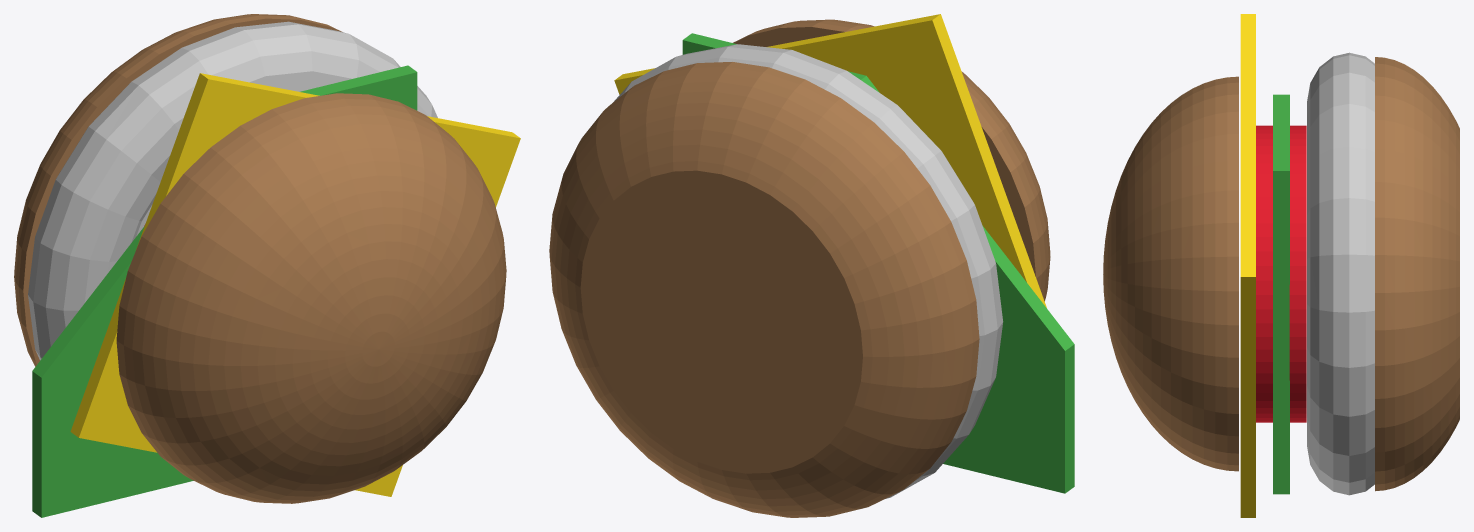
File: tinker 1.obj
3 views of the same model, side by side, from view 1: azimuth 30°, elevation 25°; view 2: azimuth 150°, elevation 25°; view 3: azimuth 270°, elevation 25° (orthographic). The views are drawn at different scales.
Visible parts, largest first — view 1: group_0_11107152, group_0_6306067, group_0_4634441, group_0_16768282; view 2: group_0_11107152, group_0_4634441, group_0_16768282, group_0_6306067; view 3: group_0_11107152, group_0_6306067, group_0_15277357, group_0_16768282, group_0_4634441.
Part boxes in pixels (bbox=[...]): group_0_11107152: bbox=[14, 14, 506, 503]; group_0_6306067: bbox=[28, 21, 437, 360]; group_0_4634441: bbox=[32, 65, 417, 517]; group_0_16768282: bbox=[70, 73, 520, 496]; group_0_11107152: bbox=[549, 19, 1050, 517]; group_0_4634441: bbox=[682, 33, 1074, 493]; group_0_16768282: bbox=[614, 14, 1046, 307]; group_0_6306067: bbox=[613, 44, 1003, 498]; group_0_11107152: bbox=[1103, 57, 1459, 491]; group_0_6306067: bbox=[1307, 52, 1374, 495]; group_0_15277357: bbox=[1256, 125, 1306, 422]; group_0_16768282: bbox=[1240, 14, 1255, 517]; group_0_4634441: bbox=[1273, 94, 1289, 494].
Bounding box in the file's own units: 33.76 × 32.32 × 24.74.
